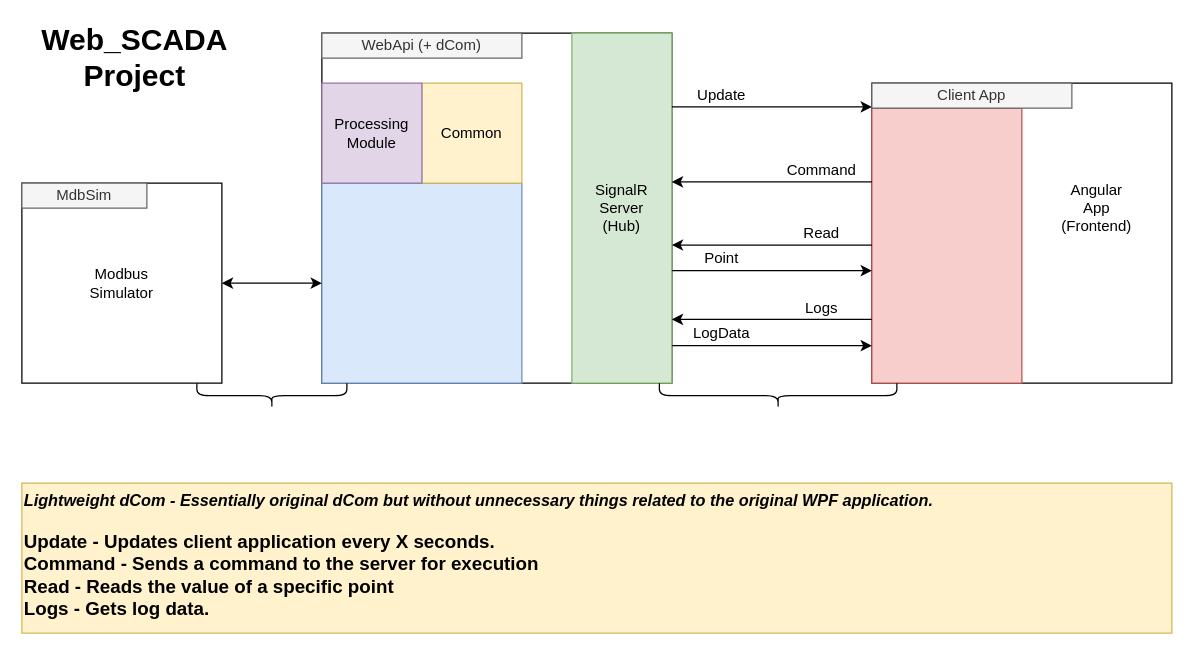
The diagram is 1194 pixels wide and 655 high, and some of its shapes have lost their labels. The shapes that lost their labels are listed below. From the top down, each one's centre as x and y in pixels, then its label:
At pixel 946 245: "SignalR Client (Hub Connection)".
At pixel 421 282: "Lightweight dCom".
At pixel 271 395: "TCP".
At pixel 777 395: "HTTP".
